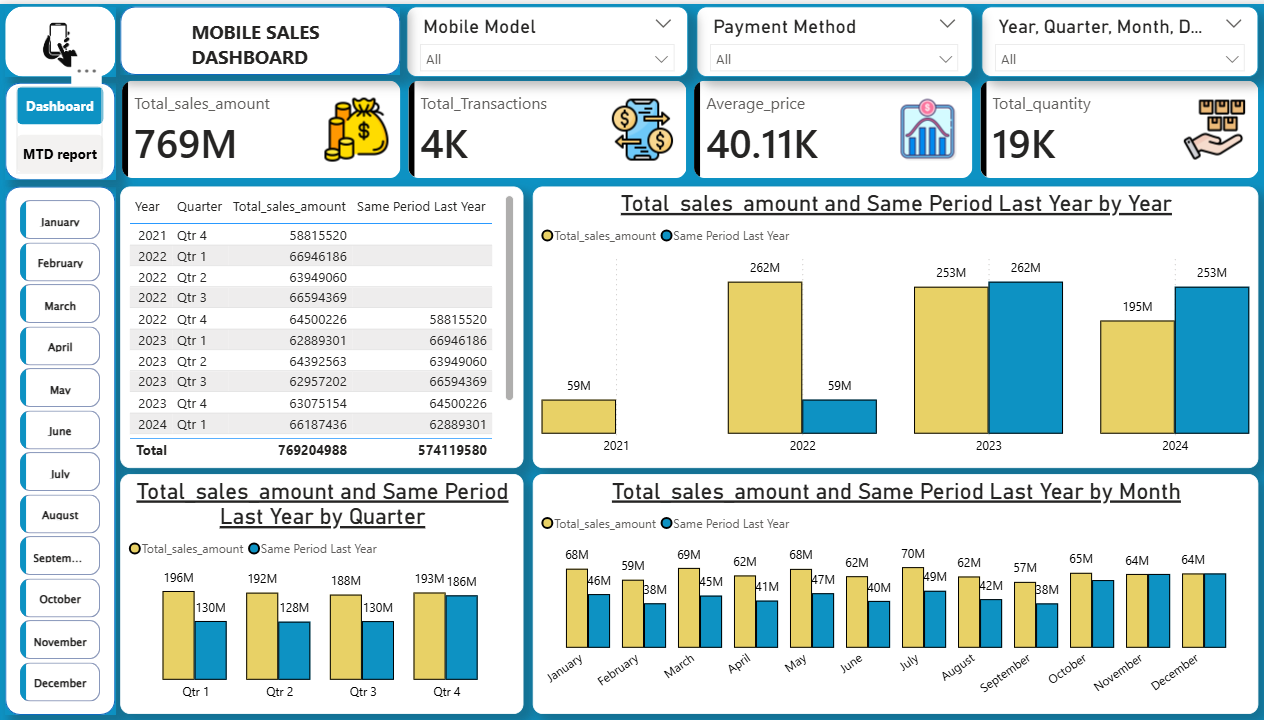

The dashboard page shown, as its layout file describes it:
{"tool":"powerbi","page":{"name":"Same period last year","canvas":[1280,720],"ordinal":2},"visuals":[{"type":"shape","box":[5.7,2.9,110,70],"z":0},{"type":"image","box":[20,2.9,82.9,77.1],"z":1000},{"type":"shape","box":[5.7,78.6,110,97.1],"z":2000},{"type":"cardVisual","fields":{"Data":["Mobiles_sales_data.Total_sales_amount","Mobiles_sales_data.Total_Transactions","Mobiles_sales_data.Average_price","Mobiles_sales_data.Total_quantity"]},"box":[105.7,60,1172.9,131.4],"z":3000},{"type":"slicer","fields":{"Values":["Custom_calendar.Date.Variation.Date Hierarchy.Year","Custom_calendar.Date.Variation.Date Hierarchy.Quarter","Custom_calendar.Date.Variation.Date Hierarchy.Month","Custom_calendar.Date.Variation.Date Hierarchy.Day"]},"box":[982.9,2.9,277.1,70],"z":4000},{"type":"slicer","fields":{"Values":["Mobiles_sales_data.Payment Method"]},"box":[697.1,2.9,275.7,70],"z":5000},{"type":"slicer","fields":{"Values":["Mobiles_sales_data.Mobile Model"]},"box":[407.1,2.9,281.4,70],"z":6000},{"type":"shape","box":[121.4,2.9,280,68.6],"z":7000},{"type":"textbox","box":[187.1,10,150,60],"z":8000},{"type":"shape","box":[5.7,182.9,110,528.6],"z":9000},{"type":"advancedSlicerVisual","fields":{"Values":["Custom_calendar.Date.Variation.Date Hierarchy.Month"]},"box":[15.7,191.4,90,517.1],"z":10000},{"type":"tableEx","fields":{"Values":["Custom_calendar.Date.Variation.Date Hierarchy.Year","Custom_calendar.Date.Variation.Date Hierarchy.Quarter","Mobiles_sales_data.Total_sales_amount","Mobiles_sales_data.Same Period Last Year"]},"box":[121.4,182.9,402.9,281.4],"z":11000},{"type":"clusteredColumnChart","fields":{"Category":["Custom_calendar.Date.Variation.Date Hierarchy.Year","Custom_calendar.Date.Variation.Date Hierarchy.Quarter"],"Y":["Mobiles_sales_data.Total_sales_amount","Mobiles_sales_data.Same Period Last Year"]},"box":[534.3,182.9,725.7,281.4],"z":12000},{"type":"clusteredColumnChart","fields":{"Y":["Mobiles_sales_data.Total_sales_amount","Mobiles_sales_data.Same Period Last Year"],"Category":["Custom_calendar.Date.Variation.Date Hierarchy.Year","Custom_calendar.Date.Variation.Date Hierarchy.Quarter"]},"box":[121.4,470,402.9,240],"z":13000},{"type":"clusteredColumnChart","fields":{"Y":["Mobiles_sales_data.Total_sales_amount","Mobiles_sales_data.Same Period Last Year"],"Category":["Custom_calendar.Date.Variation.Date Hierarchy.Year","Custom_calendar.Date.Variation.Date Hierarchy.Quarter","Custom_calendar.Date.Variation.Date Hierarchy.Month"]},"box":[534.3,470,725.7,240],"z":14000},{"type":"pageNavigator","box":[17.1,82.9,87.1,87.1],"z":15000}]}

Visuals, with their boxes in screenshot pixels (x1, y1, x2, y2), scaled from the page's 1280x720 canvas onto the 1264x720 screenshot:
shape: {"x1": 6, "y1": 3, "x2": 114, "y2": 73}
image: {"x1": 20, "y1": 3, "x2": 102, "y2": 80}
shape: {"x1": 6, "y1": 79, "x2": 114, "y2": 176}
cardVisual - Mobiles_sales_data.Total_sales_amount x Mobiles_sales_data.Total_Transactions: {"x1": 104, "y1": 60, "x2": 1263, "y2": 191}
slicer - Custom_calendar.Date.Variation.Date Hierarchy.Year x Custom_calendar.Date.Variation.Date Hierarchy.Quarter: {"x1": 971, "y1": 3, "x2": 1244, "y2": 73}
slicer - Mobiles_sales_data.Payment Method: {"x1": 688, "y1": 3, "x2": 961, "y2": 73}
slicer - Mobiles_sales_data.Mobile Model: {"x1": 402, "y1": 3, "x2": 680, "y2": 73}
shape: {"x1": 120, "y1": 3, "x2": 396, "y2": 72}
textbox: {"x1": 185, "y1": 10, "x2": 333, "y2": 70}
shape: {"x1": 6, "y1": 183, "x2": 114, "y2": 712}
advancedSlicerVisual - Custom_calendar.Date.Variation.Date Hierarchy.Month: {"x1": 16, "y1": 191, "x2": 104, "y2": 708}
tableEx - Custom_calendar.Date.Variation.Date Hierarchy.Year x Custom_calendar.Date.Variation.Date Hierarchy.Quarter: {"x1": 120, "y1": 183, "x2": 518, "y2": 464}
clusteredColumnChart - Custom_calendar.Date.Variation.Date Hierarchy.Year x Custom_calendar.Date.Variation.Date Hierarchy.Quarter: {"x1": 528, "y1": 183, "x2": 1244, "y2": 464}
clusteredColumnChart - Mobiles_sales_data.Total_sales_amount x Mobiles_sales_data.Same Period Last Year: {"x1": 120, "y1": 470, "x2": 518, "y2": 710}
clusteredColumnChart - Mobiles_sales_data.Total_sales_amount x Mobiles_sales_data.Same Period Last Year: {"x1": 528, "y1": 470, "x2": 1244, "y2": 710}
pageNavigator: {"x1": 17, "y1": 83, "x2": 103, "y2": 170}
